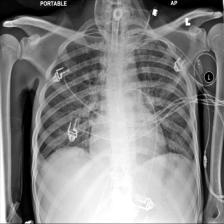normal: (34, 21, 198, 166)
